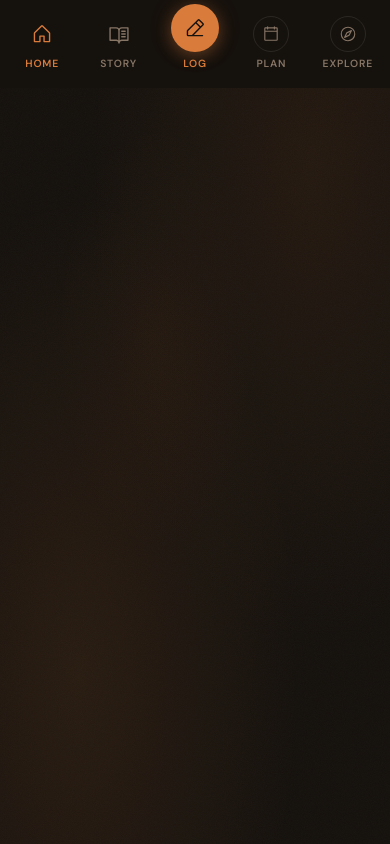
MobileBottomNav › tapping the same trayed tab again starts closing the tray
Click the button with aria-label "Plan menu" at (271, 44), box [233,8,310,80]
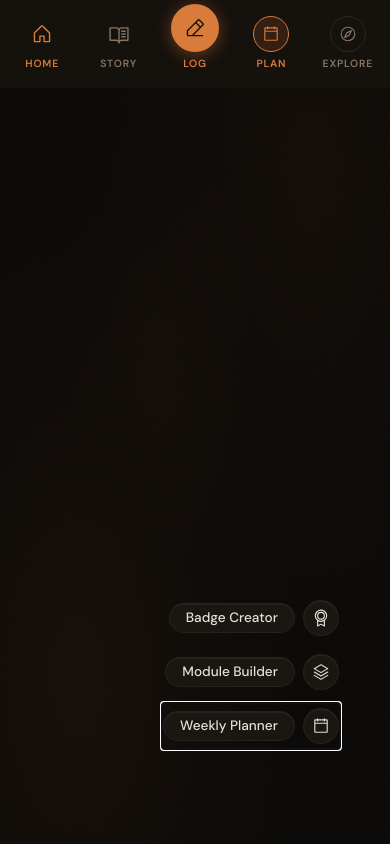
Check: the button with aria-label "Plan menu" is expanded
Click the button with aria-label "Plan menu" at (271, 44), box [233,8,310,80]
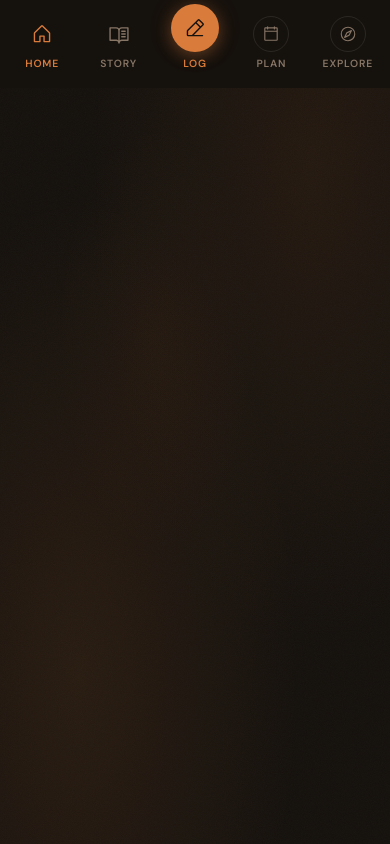
Check: the button with aria-label "Plan menu" is collapsed, box [233,8,310,80]
